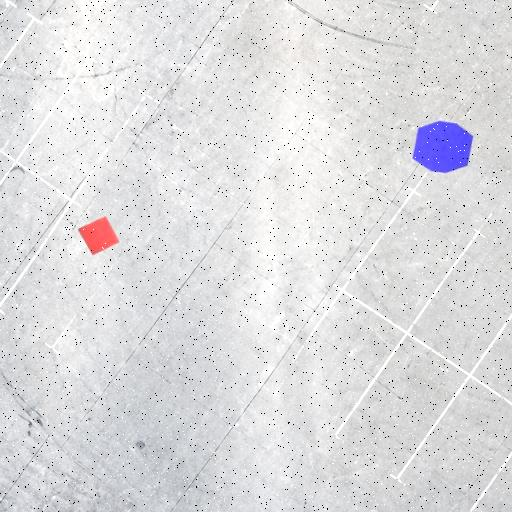RED_SQUARE: (78, 216, 120, 256)
